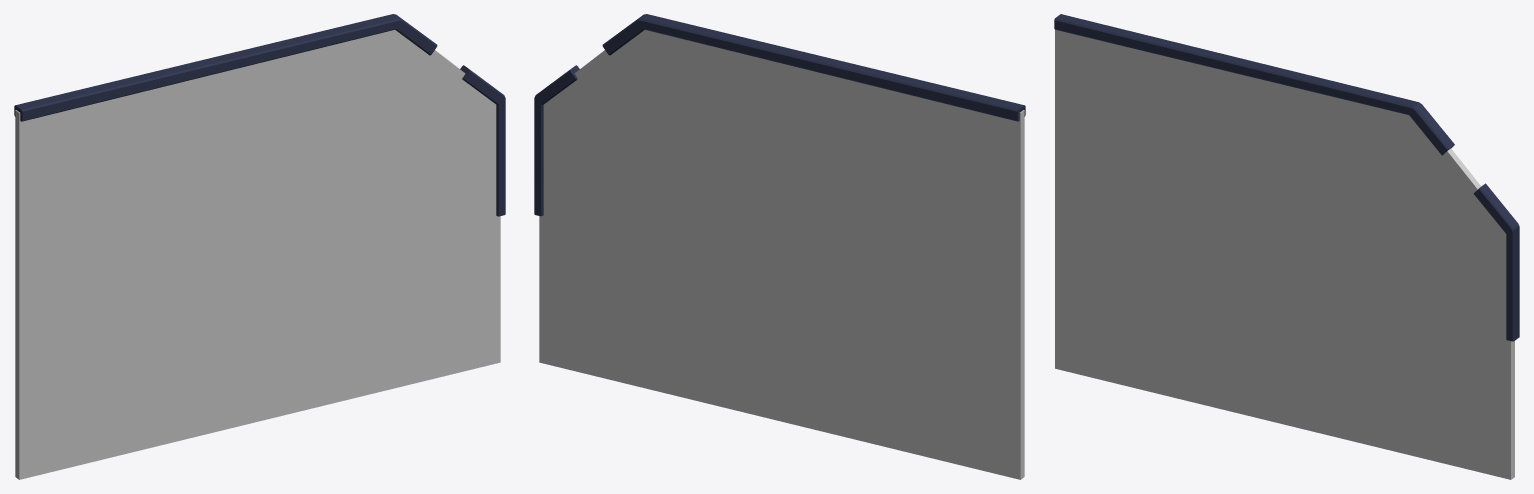
The model's file is partition.fbx.
3 renders of one model, left to right at view 1: azimuth 30°, elevation 25°; view 2: azimuth 150°, elevation 25°; view 3: azimuth 330°, elevation 25°, orthographic. The views are drawn at different scales.
Parts seen in each view (by area): view 1: pCube1, pCube2, pCube3; view 2: pCube1, pCube2, pCube3; view 3: pCube1, pCube2, pCube3.
Boxes of the visible parts, bbox=[...] form: pCube1: bbox=[15, 30, 500, 479]; pCube2: bbox=[14, 14, 437, 121]; pCube3: bbox=[460, 65, 505, 216]; pCube1: bbox=[539, 30, 1024, 479]; pCube2: bbox=[602, 14, 1025, 121]; pCube3: bbox=[534, 65, 579, 216]; pCube1: bbox=[1055, 29, 1514, 479]; pCube2: bbox=[1054, 14, 1454, 155]; pCube3: bbox=[1473, 183, 1519, 341].
Bounding box in the file's own units: 20.03 × 14.62 × 0.5537.
